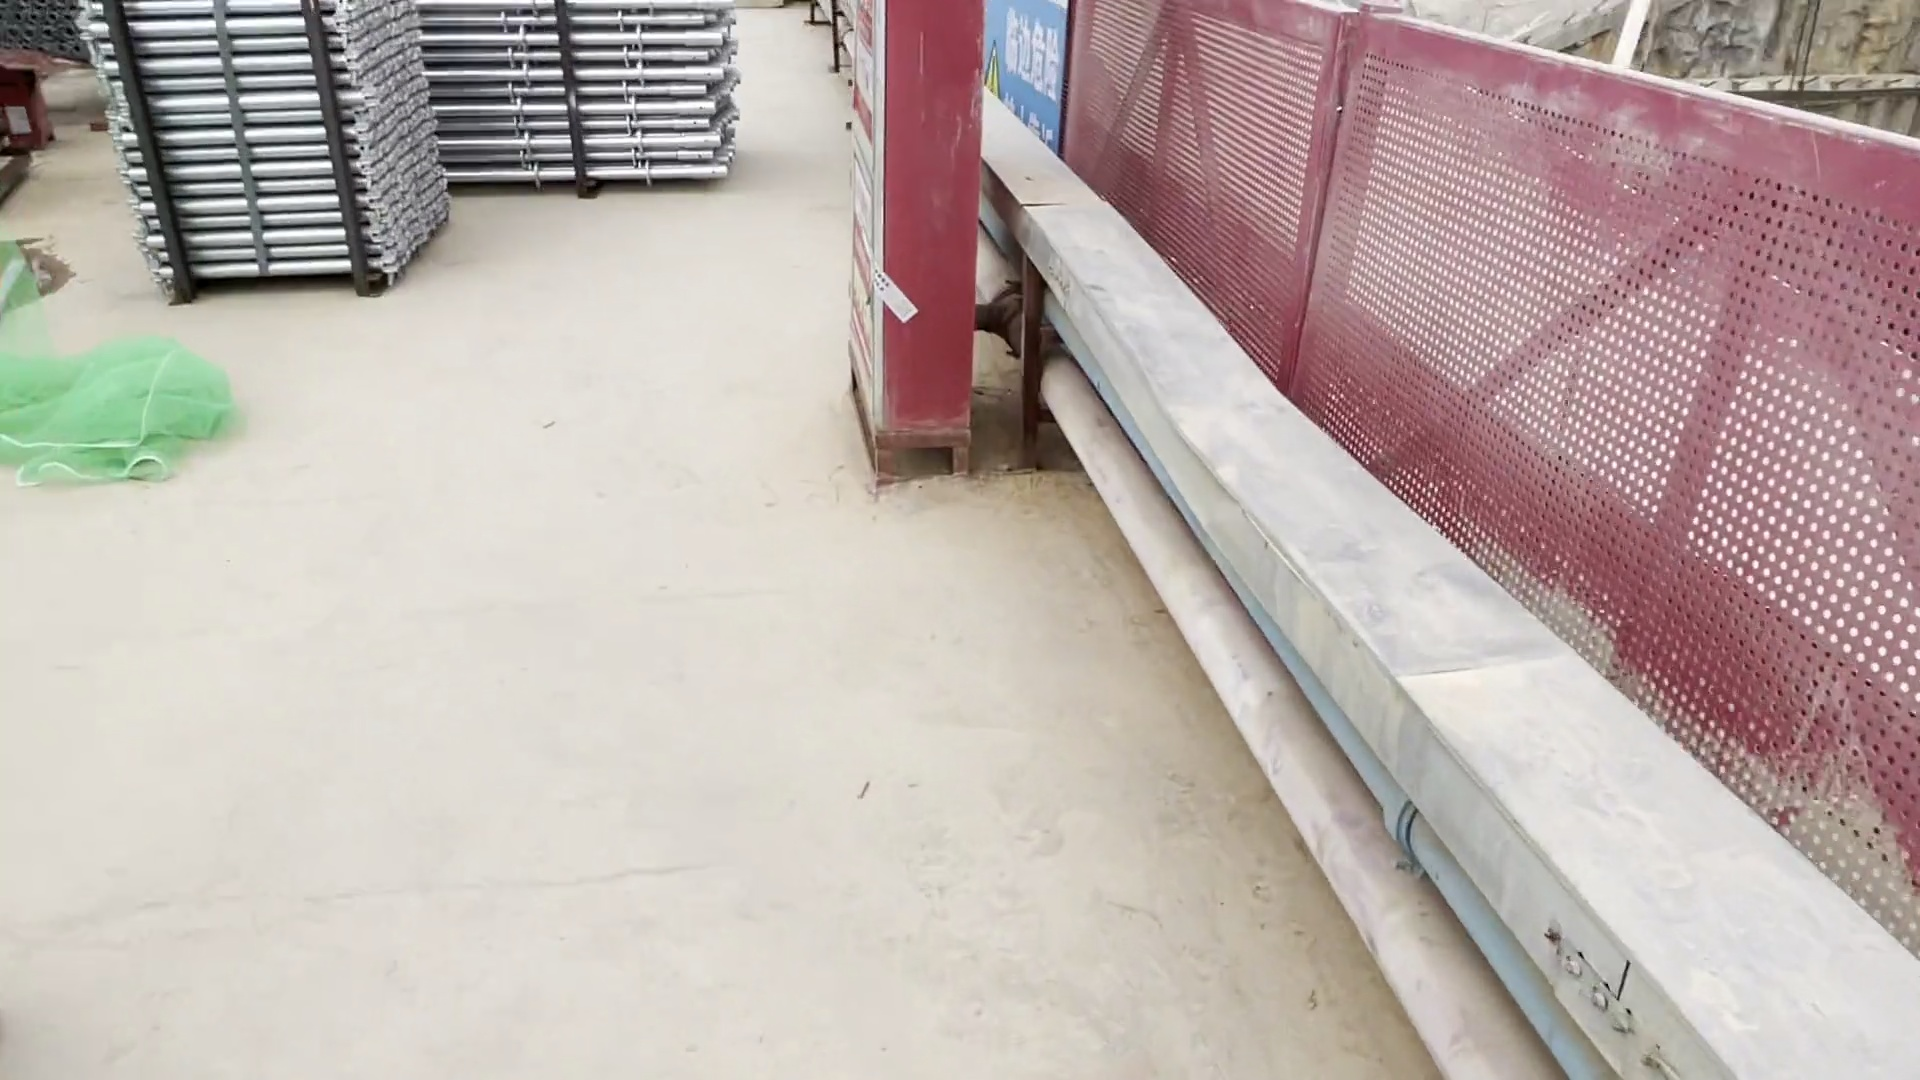fence: (1329, 13, 1920, 949), (1067, 8, 1311, 425)
scaffold: (94, 1, 444, 302), (419, 1, 771, 194)
